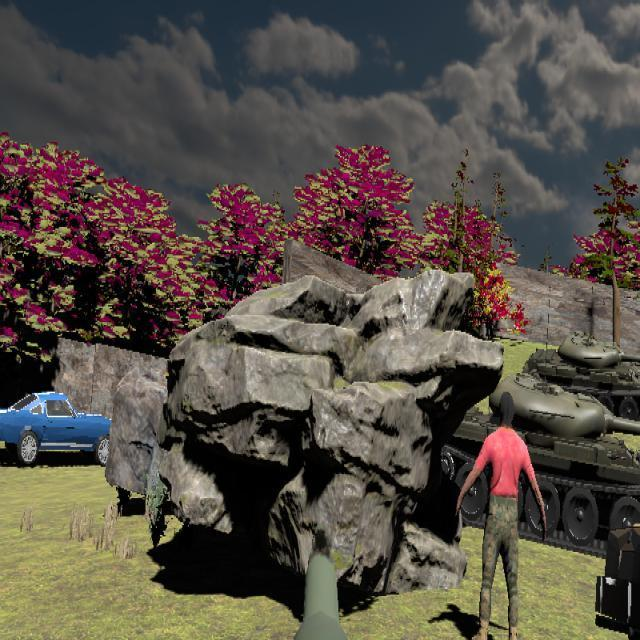Human: (454, 389, 547, 640)
Tank: (445, 378, 640, 561), (521, 332, 640, 425)
car: (0, 388, 118, 468), (595, 485, 640, 640)
